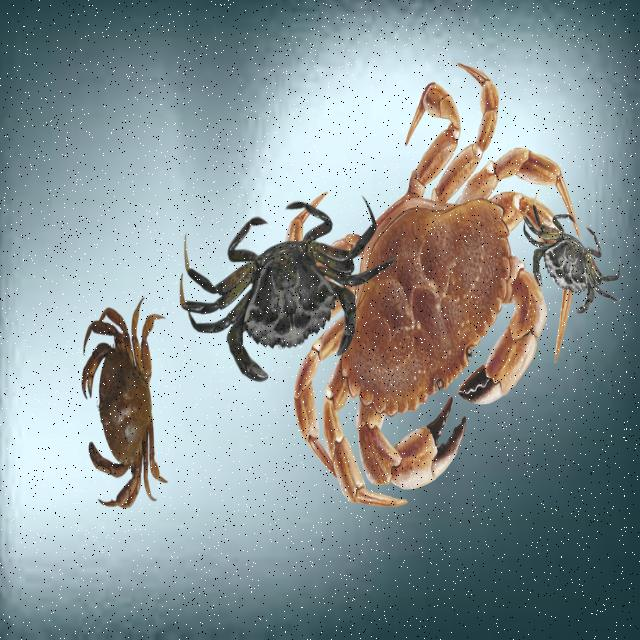European_Green_Crab: (171, 171, 394, 409), (512, 191, 626, 328)
